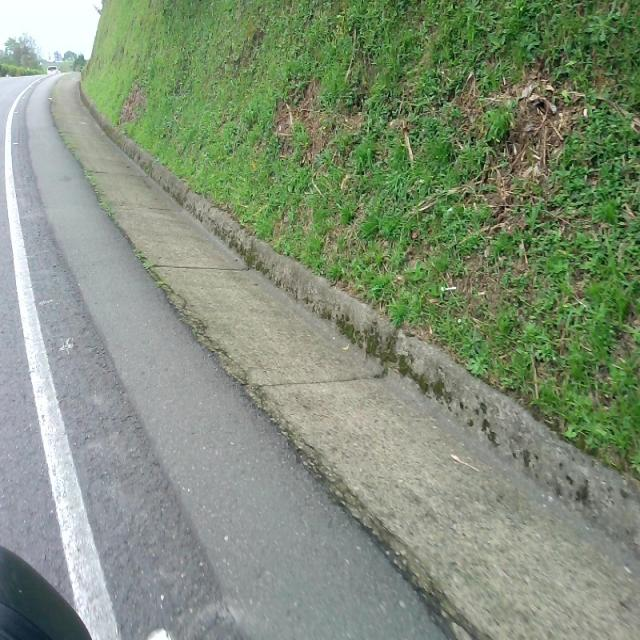DITCH: (1, 42, 638, 639), (46, 69, 639, 638), (1, 131, 638, 638)
